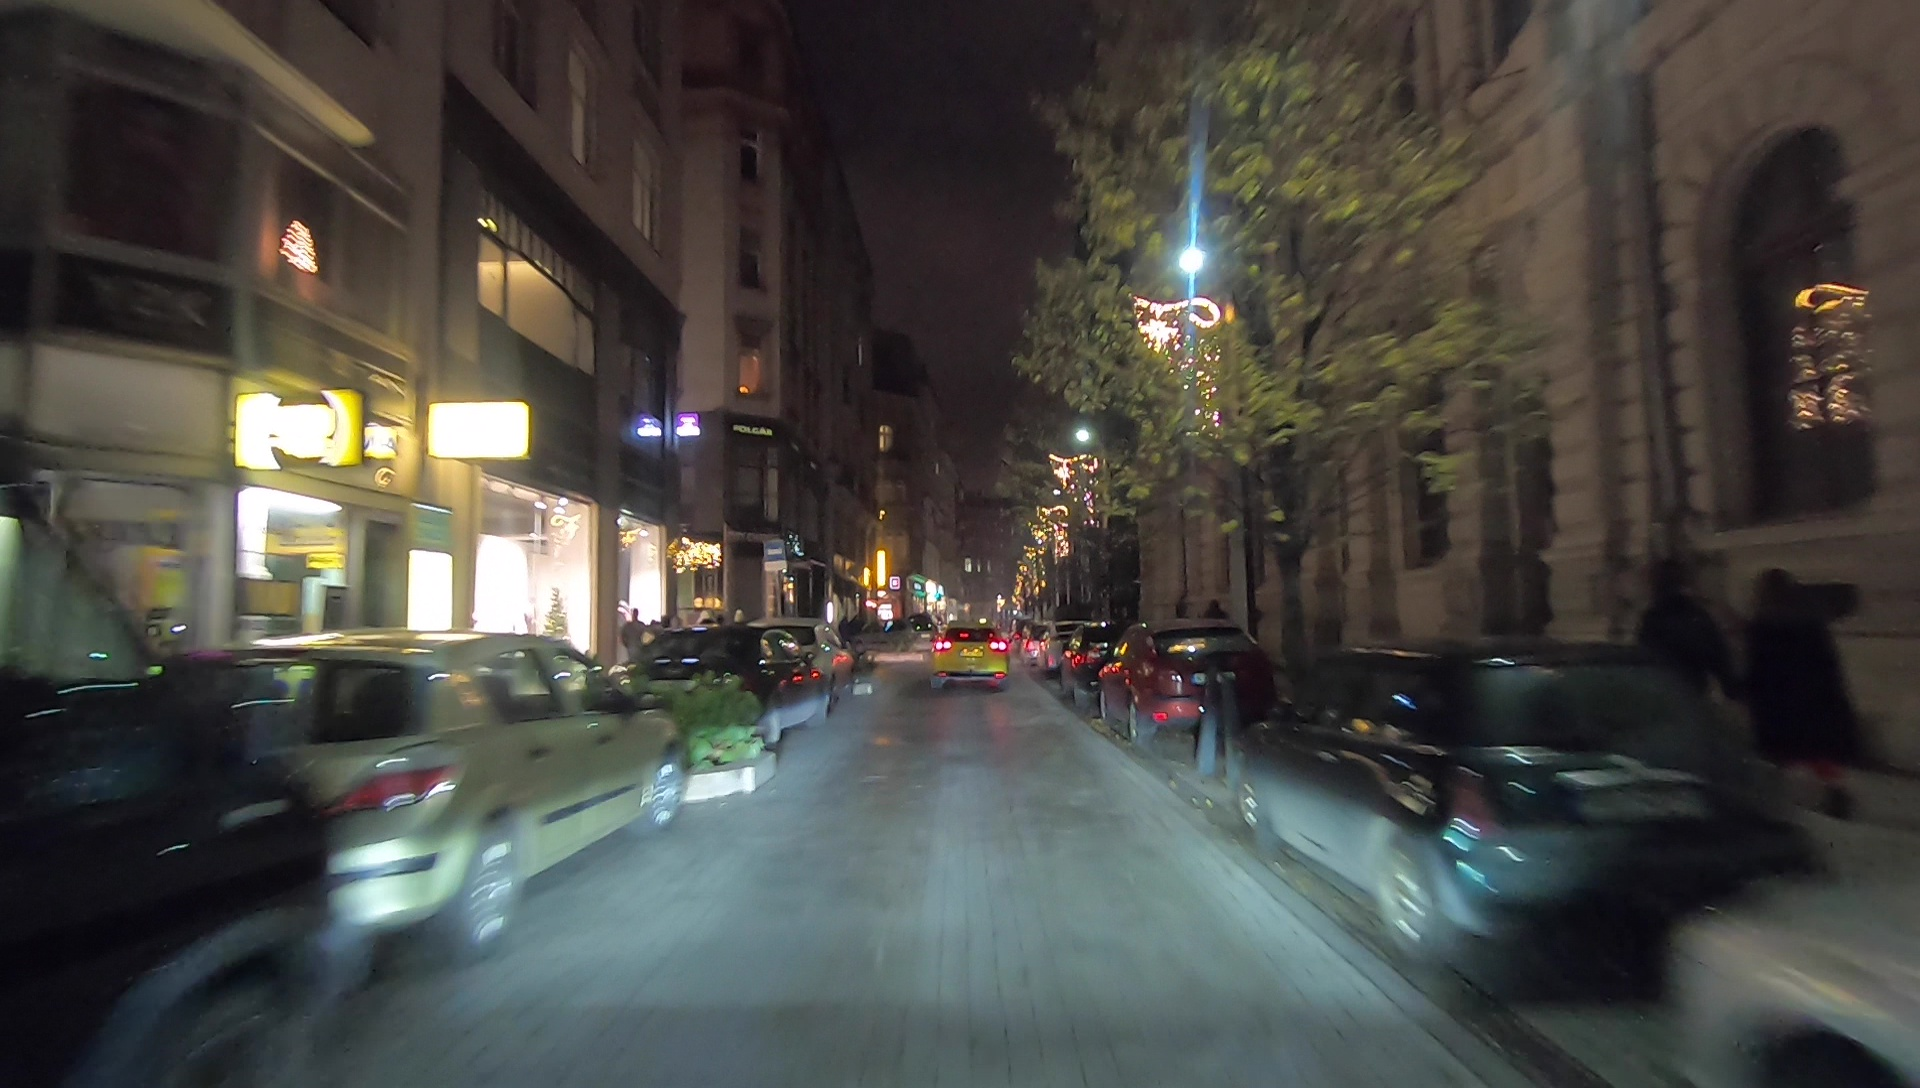person: (1741, 567, 1867, 832), (1636, 554, 1738, 823), (1202, 599, 1229, 669), (619, 608, 644, 679)
